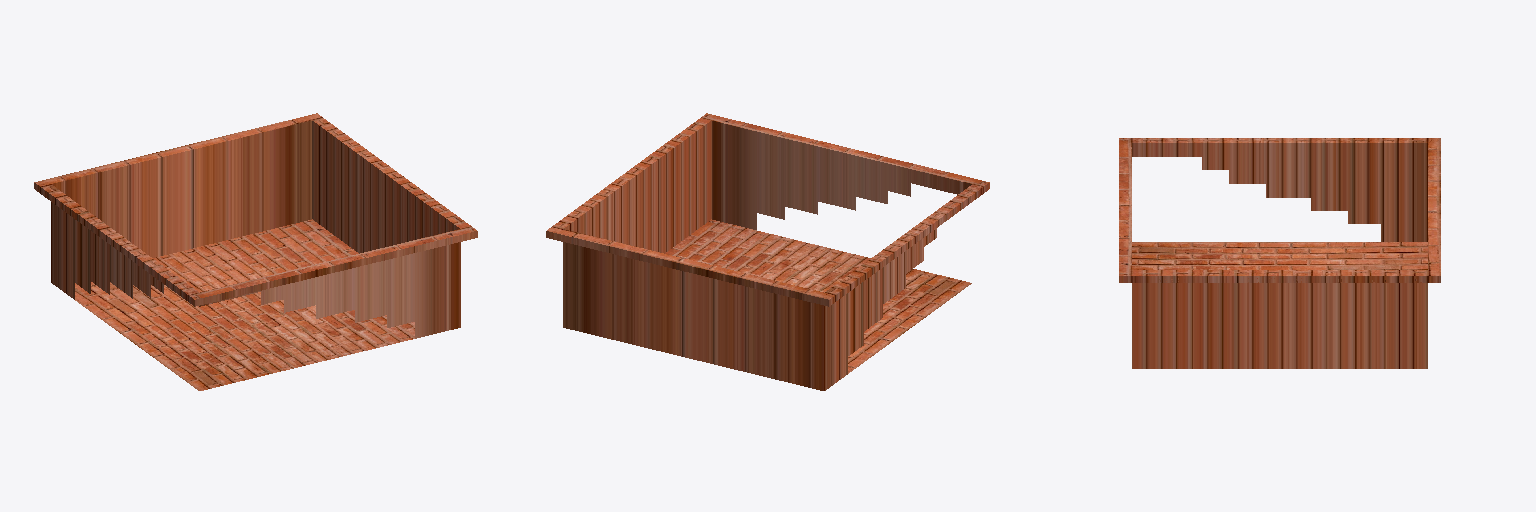
3 views of the same model, side by side, from view 1: azimuth 30°, elevation 25°; view 2: azimuth 150°, elevation 25°; view 3: azimuth 270°, elevation 25° (orthographic).
Visible parts, largest first — view 1: Alberca_Plane.001; view 2: Alberca_Plane.001; view 3: Alberca_Plane.001.
Part boxes in pixels (x1,y1,x2,y2): Alberca_Plane.001: (34,113,477,390); Alberca_Plane.001: (546,113,989,390); Alberca_Plane.001: (1119,138,1440,368).
Bounding box in the file's own units: 26.29 × 8.77 × 25.84.
Materials: 1 (1 with a texture image).